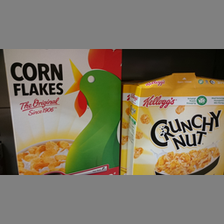cereal: (3, 49, 123, 174), (128, 75, 224, 174)
